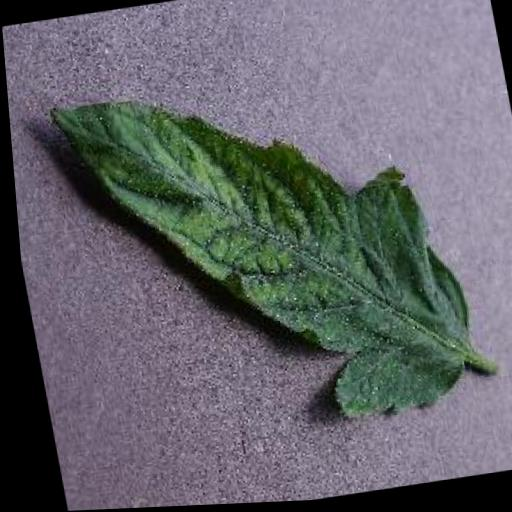Mosaic Virus: (44, 48, 482, 460)
